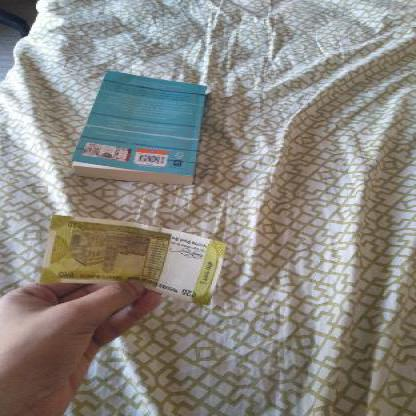New20Back: (38, 214, 221, 300)
